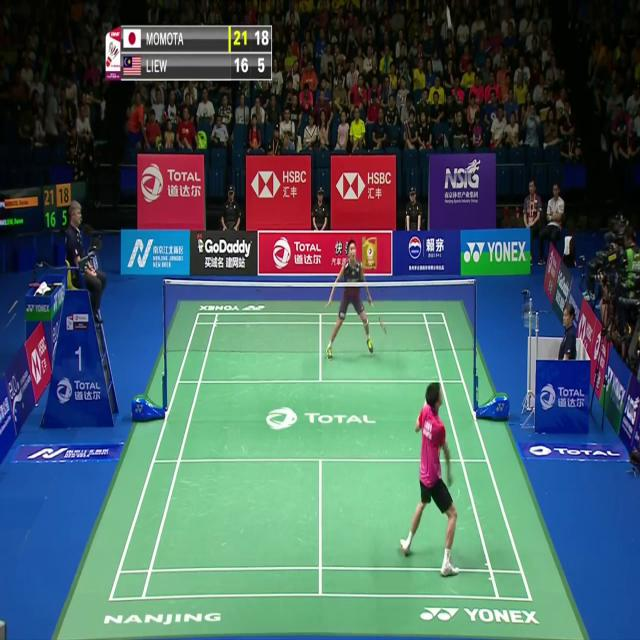Shuttlecock: (446, 12, 452, 24)
